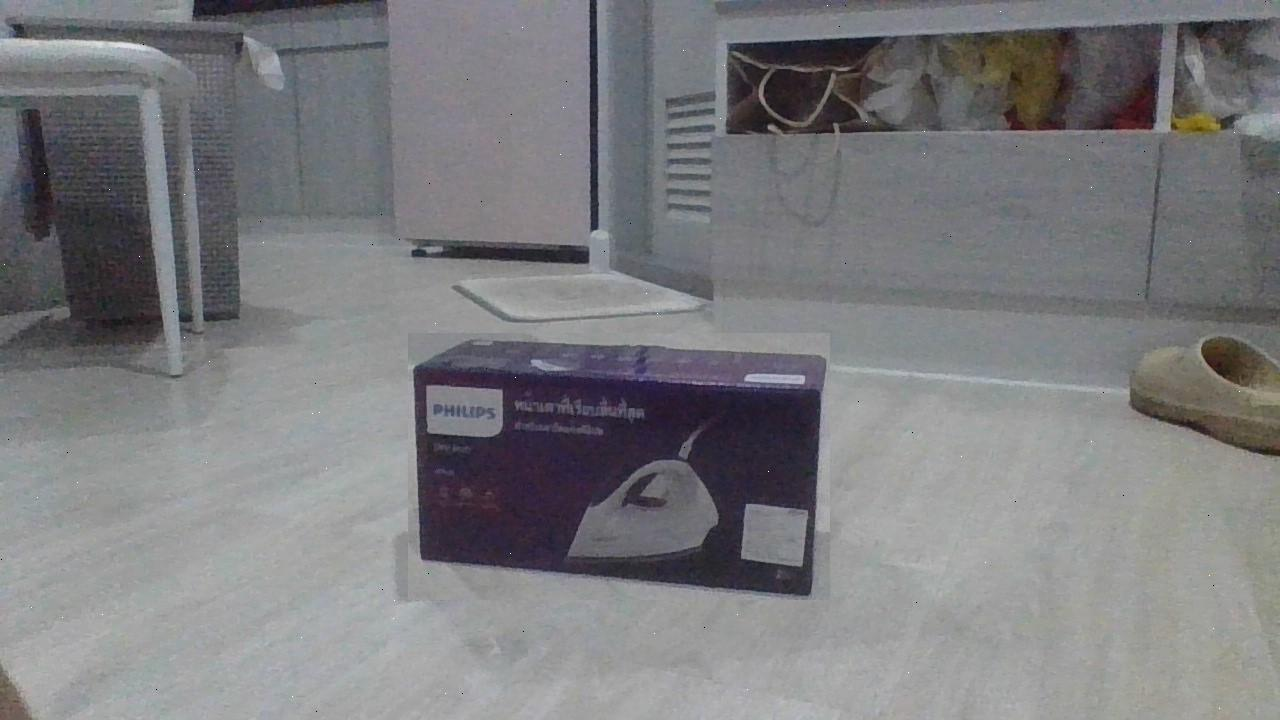IRON: (408, 333, 830, 600)
